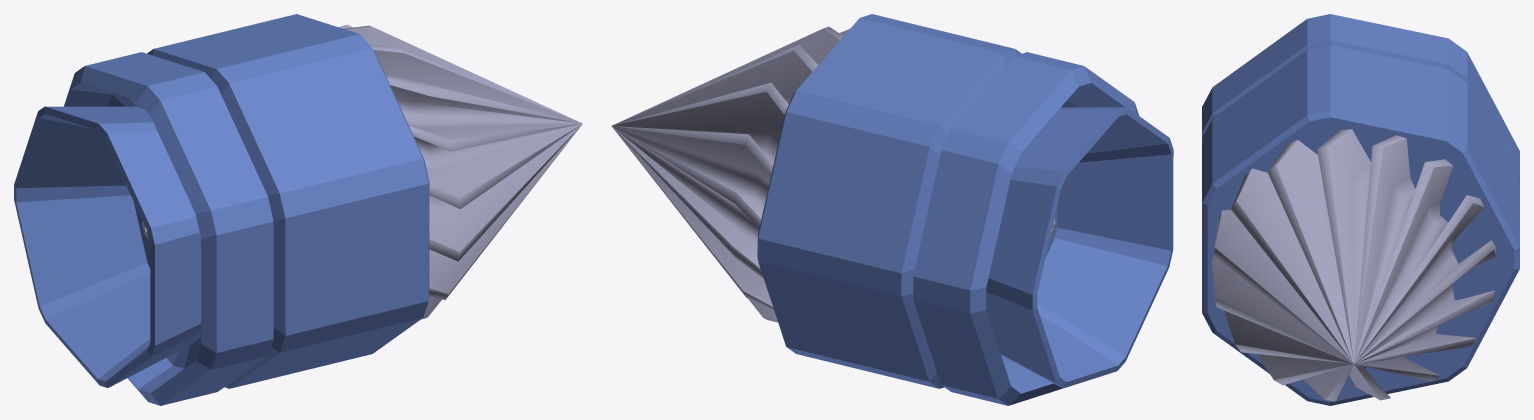
The model's file is DRILL.fbx.
3 renders of one model, left to right at view 1: azimuth 30°, elevation 25°; view 2: azimuth 150°, elevation 25°; view 3: azimuth 270°, elevation 25°, orthographic. The views are drawn at different scales.
Parts seen in each view (by area): view 1: Cylinder, MillingCutter_low; view 2: Cylinder, MillingCutter_low; view 3: MillingCutter_low, Cylinder.
Boxes of the visible parts, <box> form: Cylinder: <box>14,14,429,405</box>; MillingCutter_low: <box>142,24,582,319</box>; Cylinder: <box>757,14,1173,405</box>; MillingCutter_low: <box>611,26,1055,322</box>; MillingCutter_low: <box>1212,129,1496,401</box>; Cylinder: <box>1202,14,1519,405</box>.
Bounding box in the file's own units: 289 × 176 × 172.
